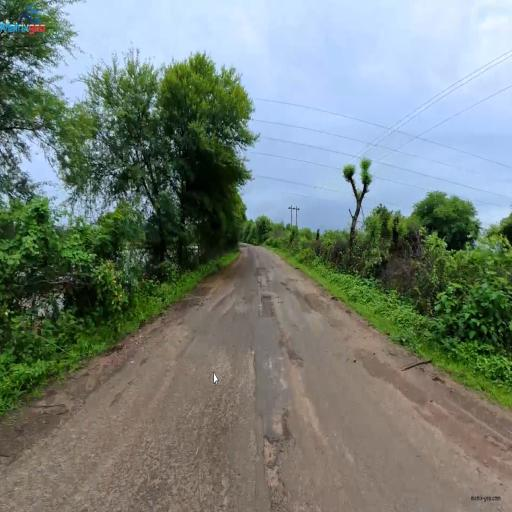pothole: (253, 417, 309, 501), (257, 284, 285, 350)
